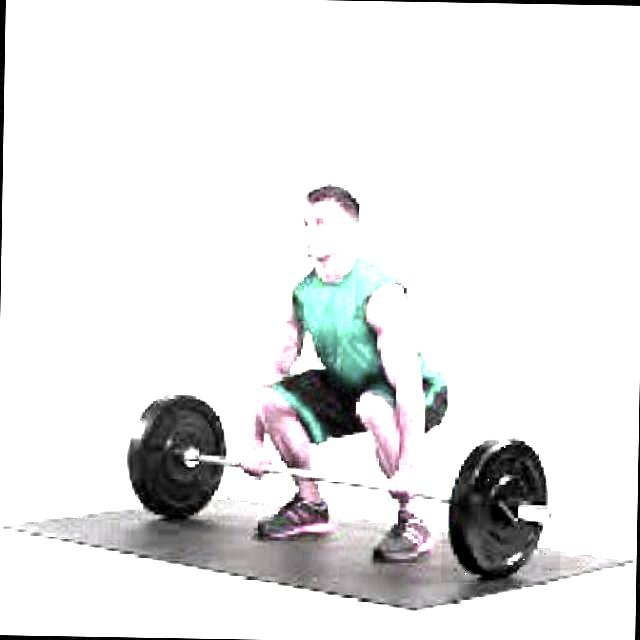barbell: (442, 432, 564, 585)
